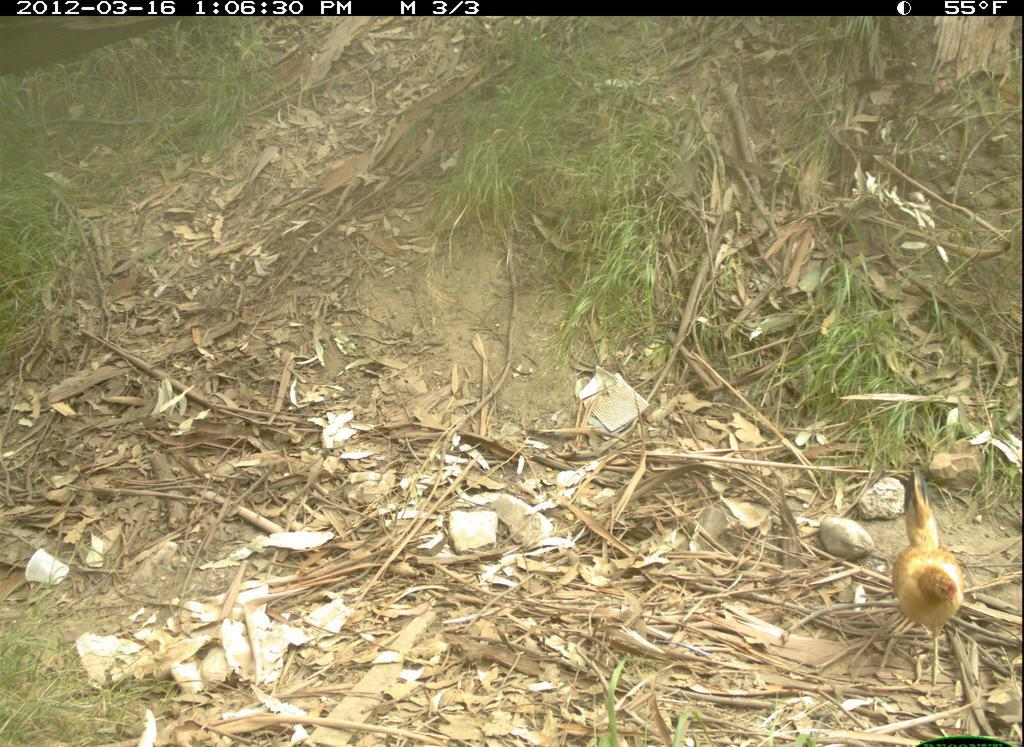bird: (884, 464, 991, 712)
